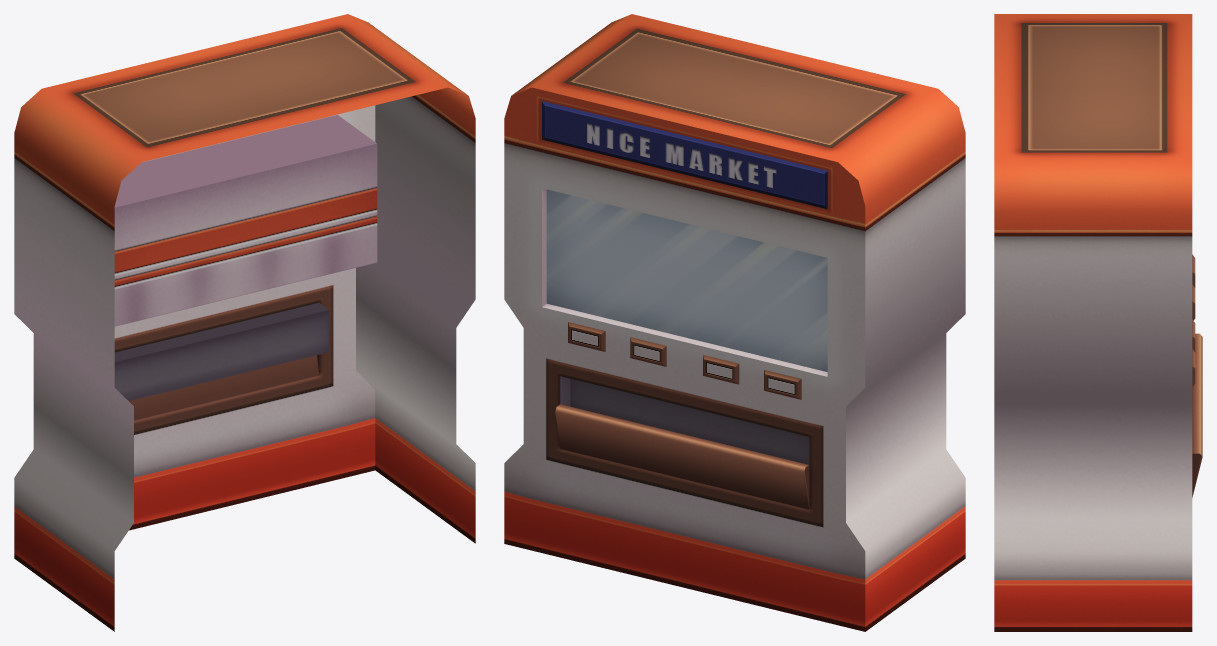
The model's file is Store1.FBX.
3 views of the same model, side by side, from view 1: azimuth 30°, elevation 25°; view 2: azimuth 150°, elevation 25°; view 3: azimuth 270°, elevation 25° (orthographic).
Parts seen in each view (by area): view 1: Store1; view 2: Store1; view 3: Store1.
Boxes of the visible parts, x1,y1,x2,y2 form: Store1: (14, 14, 475, 631); Store1: (504, 14, 965, 631); Store1: (994, 14, 1202, 631).
Size of the model in its own units: 475 by 240 by 582.
1 material, 1 textured.
